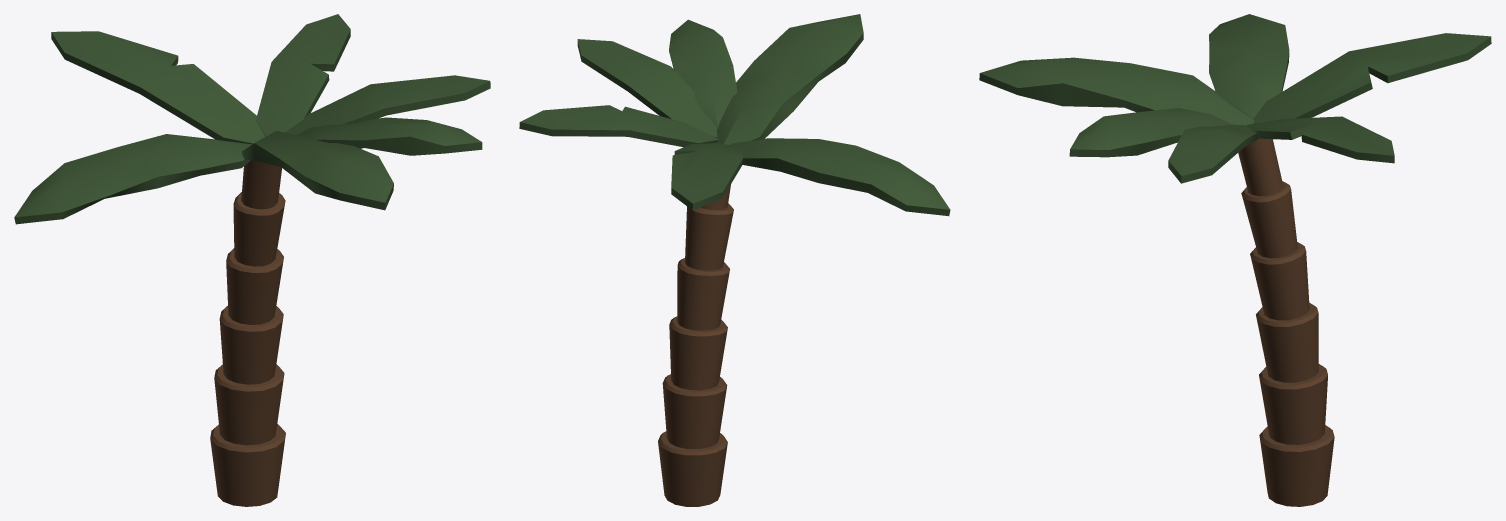
The model's file is Palm_01.fbx.
3 views of the same model, side by side, from view 1: azimuth 30°, elevation 25°; view 2: azimuth 150°, elevation 25°; view 3: azimuth 270°, elevation 25° (orthographic). The views are drawn at different scales.
Parts seen in each view (by area): view 1: SM_PalmTree_03; view 2: SM_PalmTree_03; view 3: SM_PalmTree_03.
Part boxes in pixels (x1,y1,x2,y2): SM_PalmTree_03: [14, 14, 490, 506]; SM_PalmTree_03: [519, 14, 950, 506]; SM_PalmTree_03: [979, 14, 1491, 506].
Size of the model in its own units: 0.5067 by 0.4687 by 0.5136.
